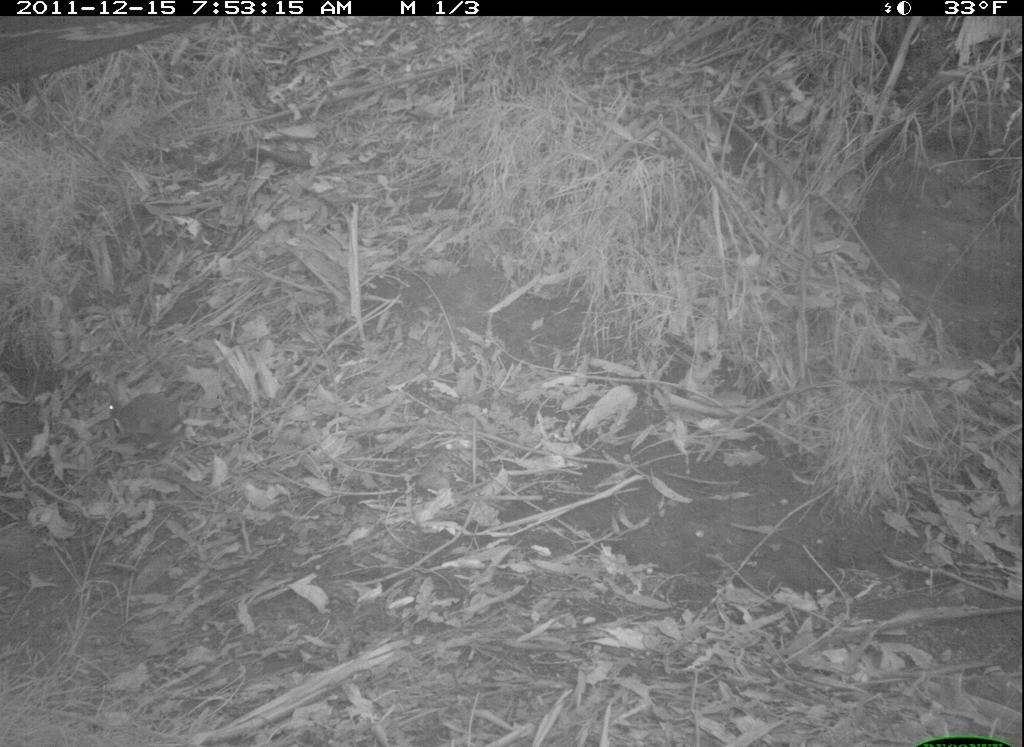rabbit: (99, 381, 201, 460)
